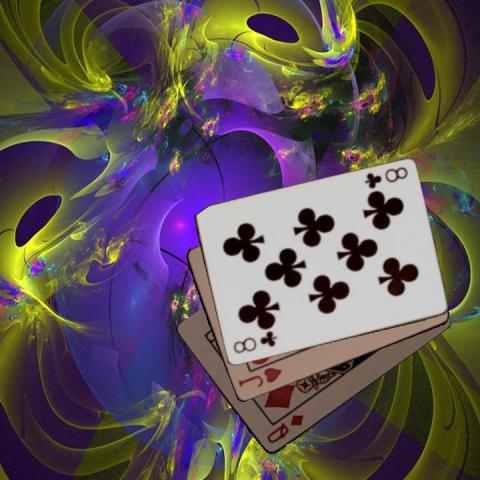8c: (361, 164, 409, 191), (230, 330, 279, 355)
Jh: (235, 365, 284, 389)
Qd: (264, 412, 305, 446)
